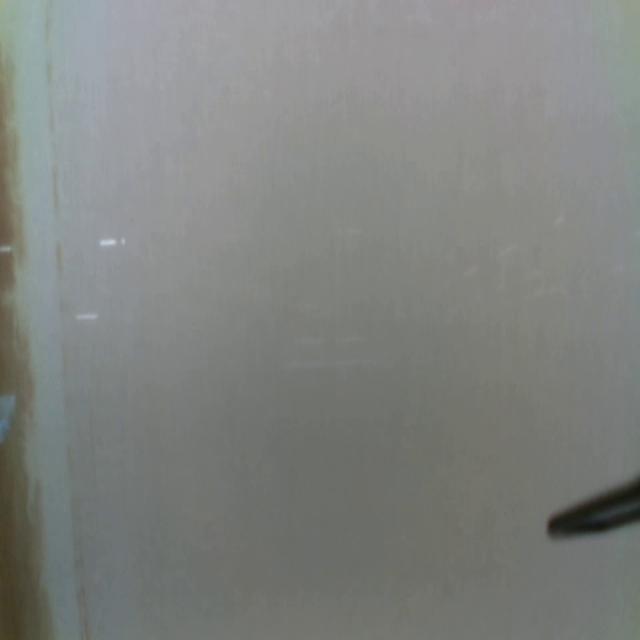color bleeding: (0, 0, 90, 635)
